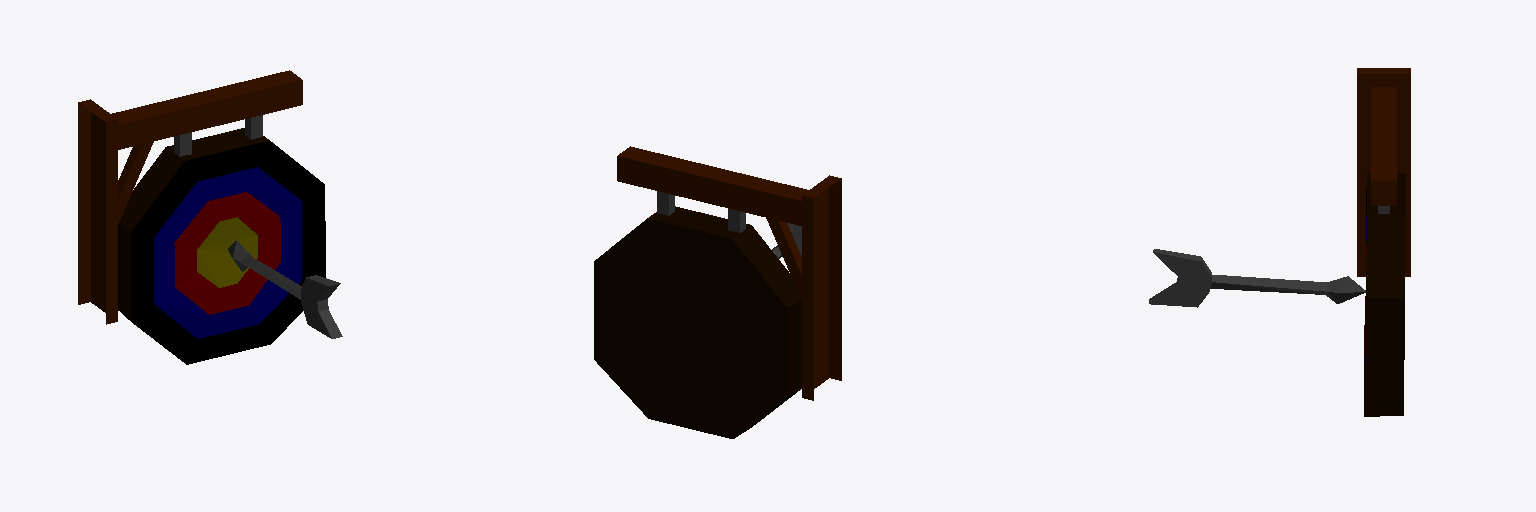
Rendered from target.obj.
3 views of the same model, side by side, from view 1: azimuth 30°, elevation 25°; view 2: azimuth 150°, elevation 25°; view 3: azimuth 270°, elevation 25° (orthographic).
Size of the model in its own units: 148 by 168 by 150.